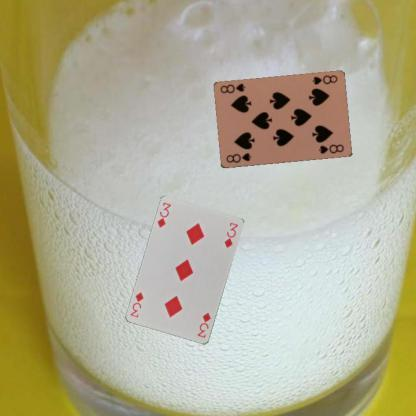3d: (194, 310, 212, 339), (154, 200, 172, 229)
8s: (223, 150, 252, 164), (310, 72, 338, 86)
